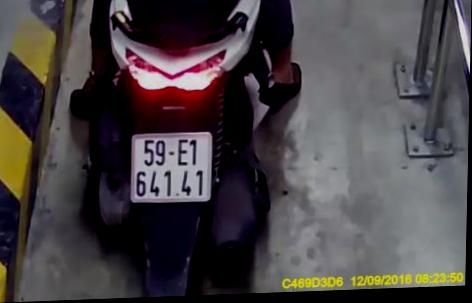License_Plate: (127, 127, 219, 204)
